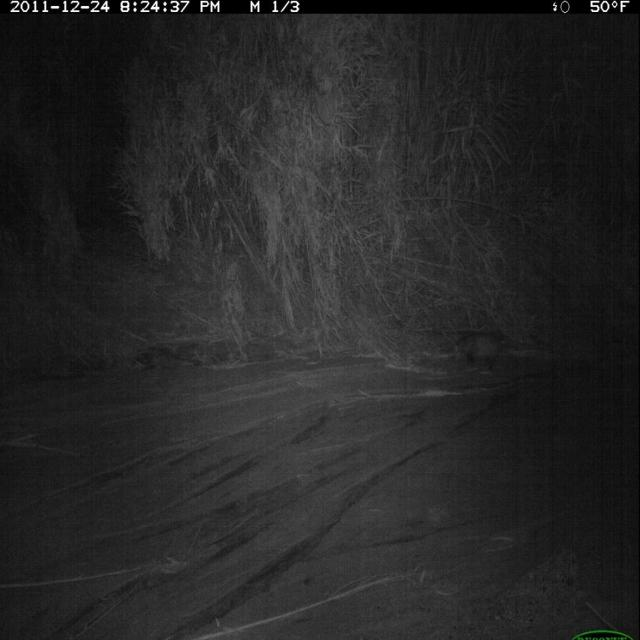opossum: (454, 331, 519, 371)
